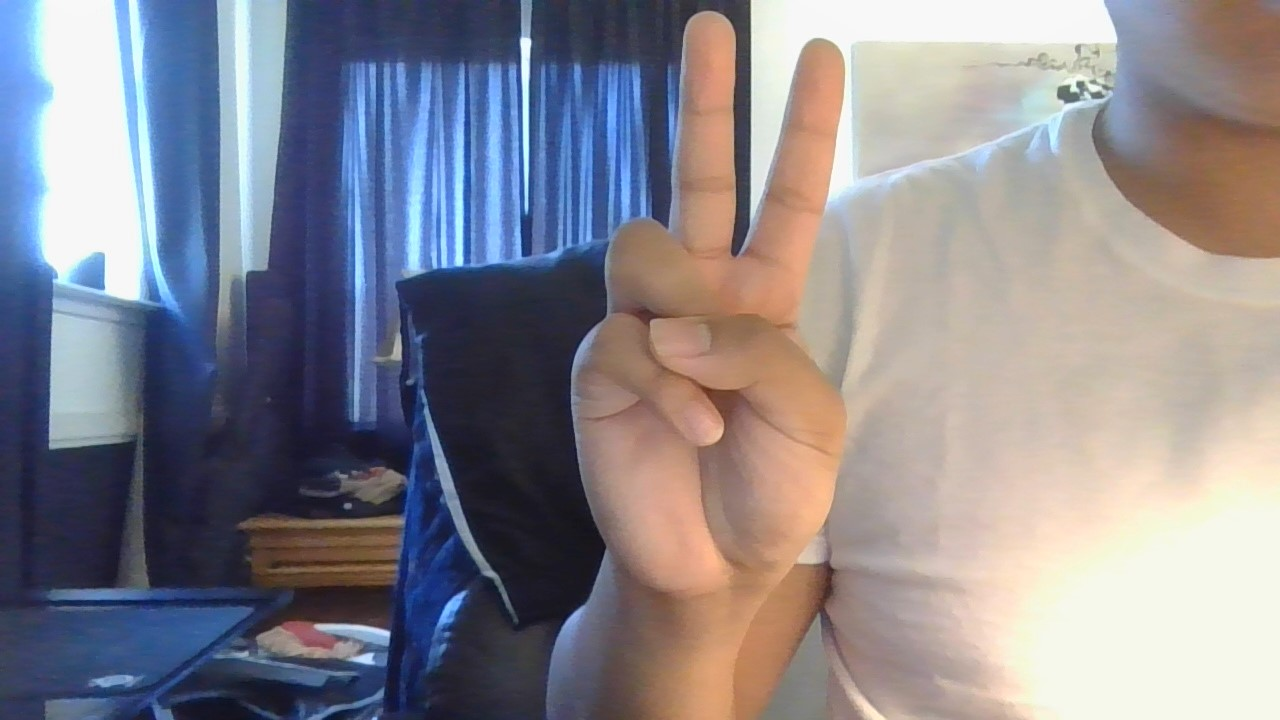v: (571, 1, 885, 637)
